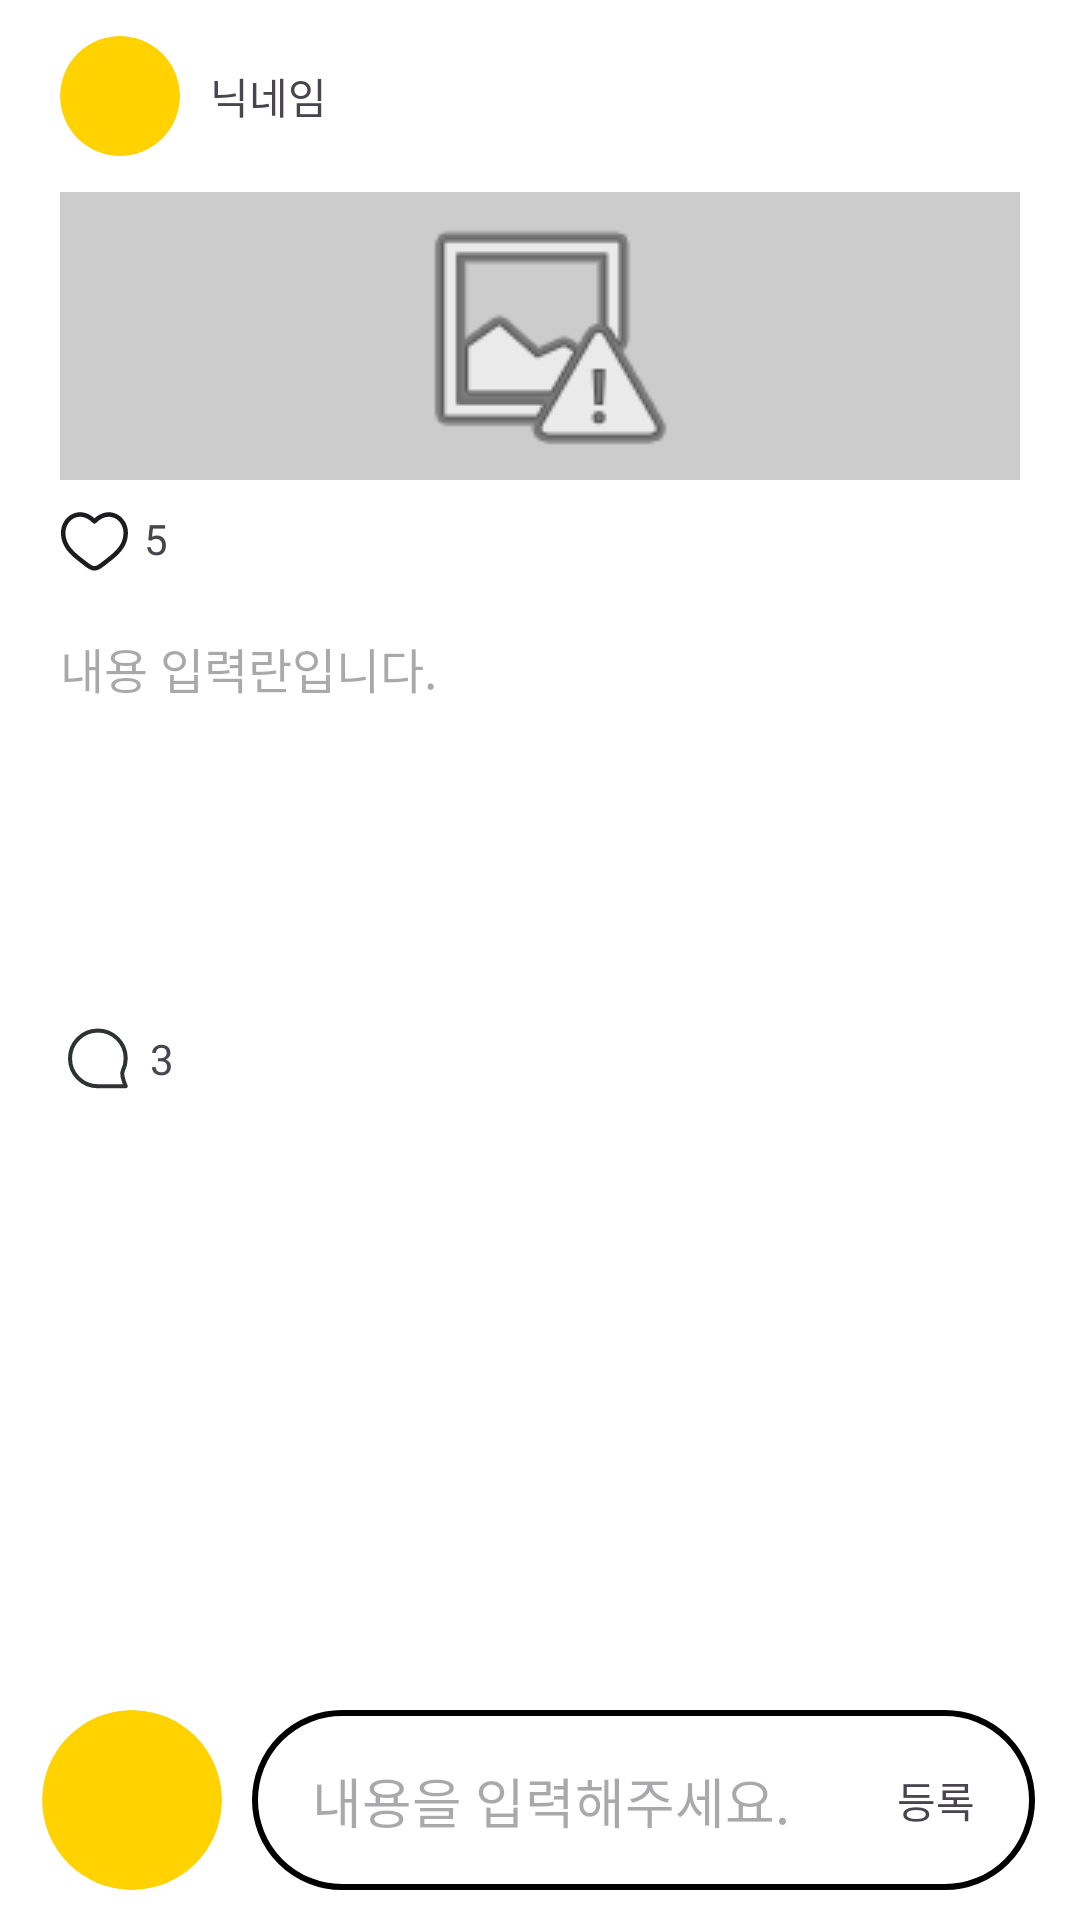

Icon bounding boxes for this 1080 × 1920 phone screenshot, format (x1, y1, x2, y2):
chat: (68, 1028, 128, 1089)
like off: (61, 512, 128, 571)
